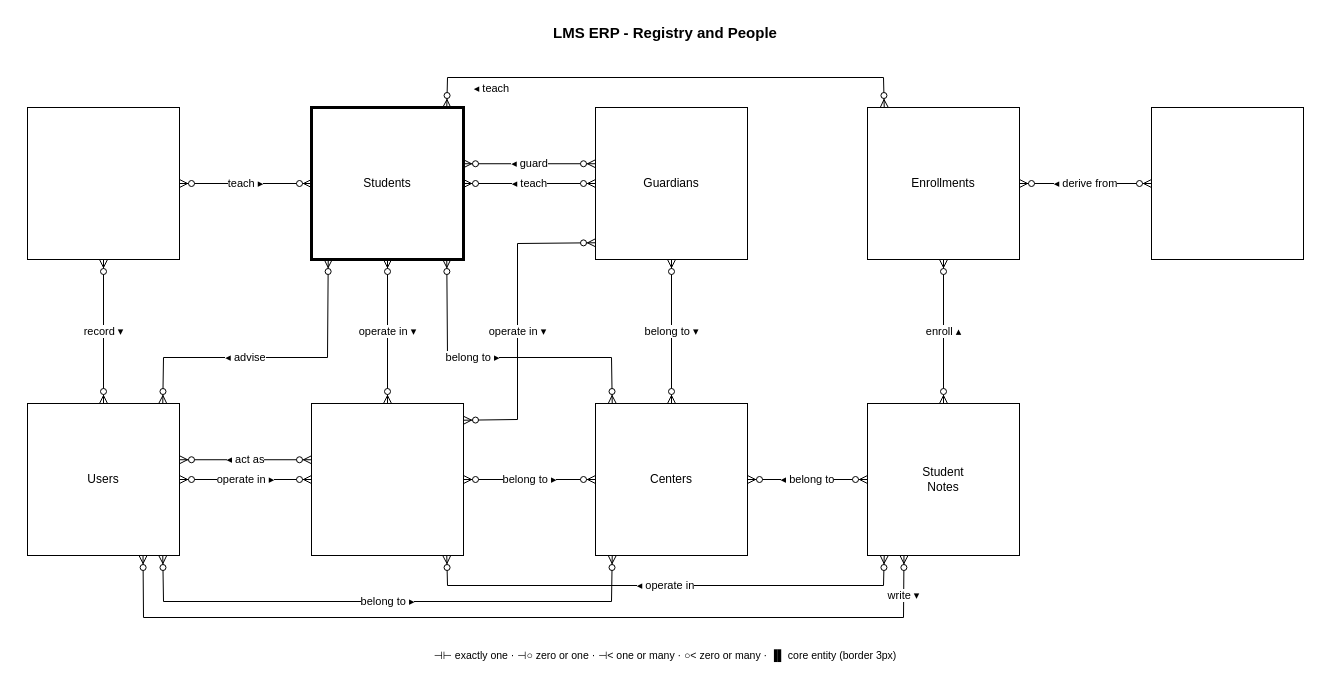
The diagram is 1330 pixels wide and 682 high, and some of its shapes have lost their labels. Each missing label, with the box of its shape:
Balance Transfers: (1150, 106, 1304, 260)
Branches: (310, 402, 464, 556)
Qualifications: (26, 106, 180, 260)
